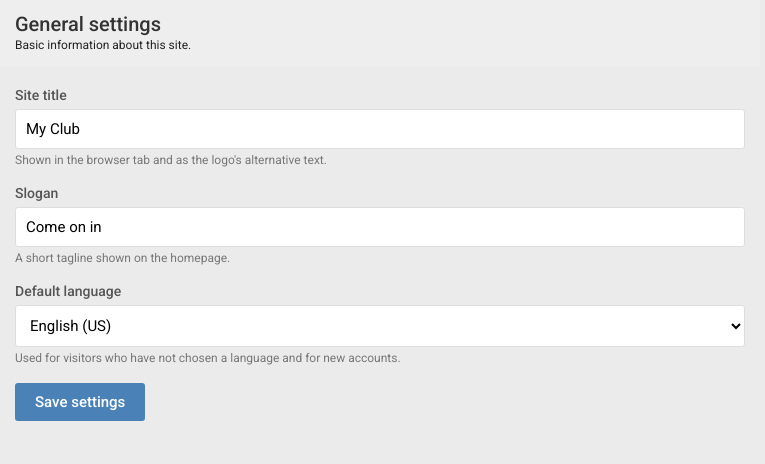
Test case: saves the changed settings
This screenshot has width=765, height=464.
Replace the text in the field labelled "Site title" with "Our Club". click: (380, 129)
box: [15,109,745,149]
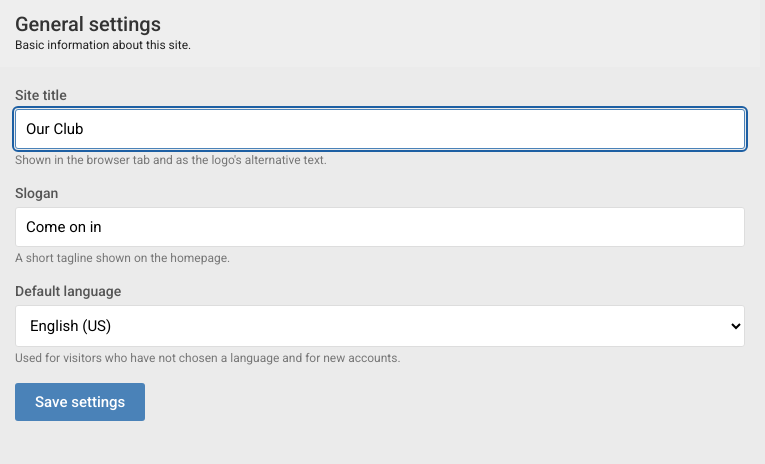
Select "Deutsch" in the dropdown labelled "Default language". click: (380, 326)
box: [15,305,745,347]
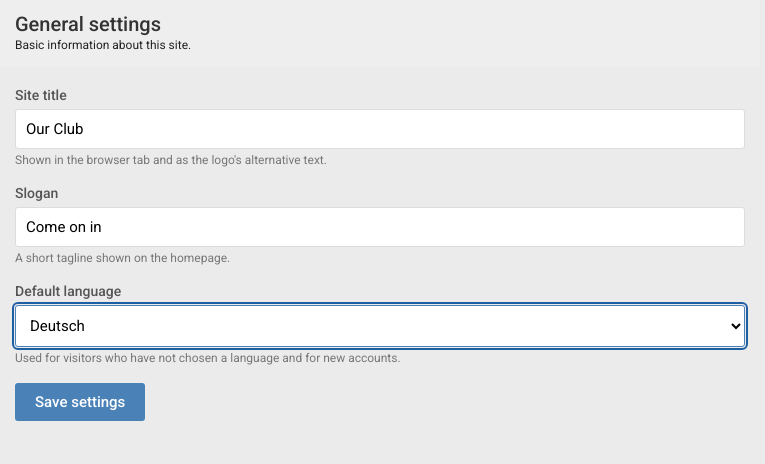
Click the button "Save settings". click: (80, 402)
box: [15,383,145,421]
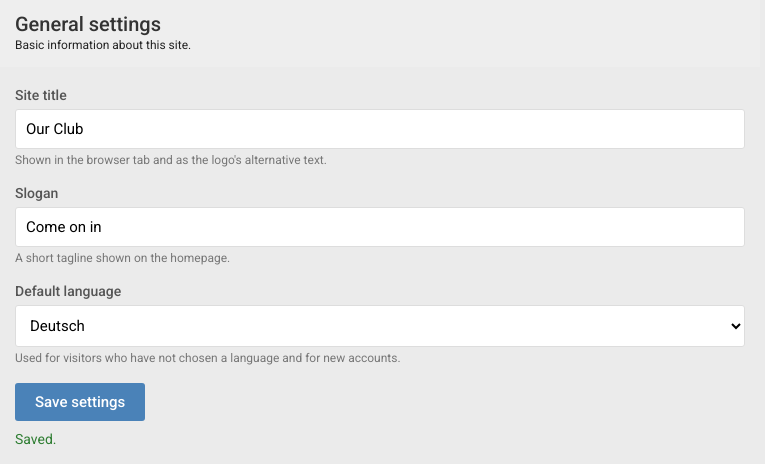
Expected: the text "Saved." is shown, [15,431,56,447]
